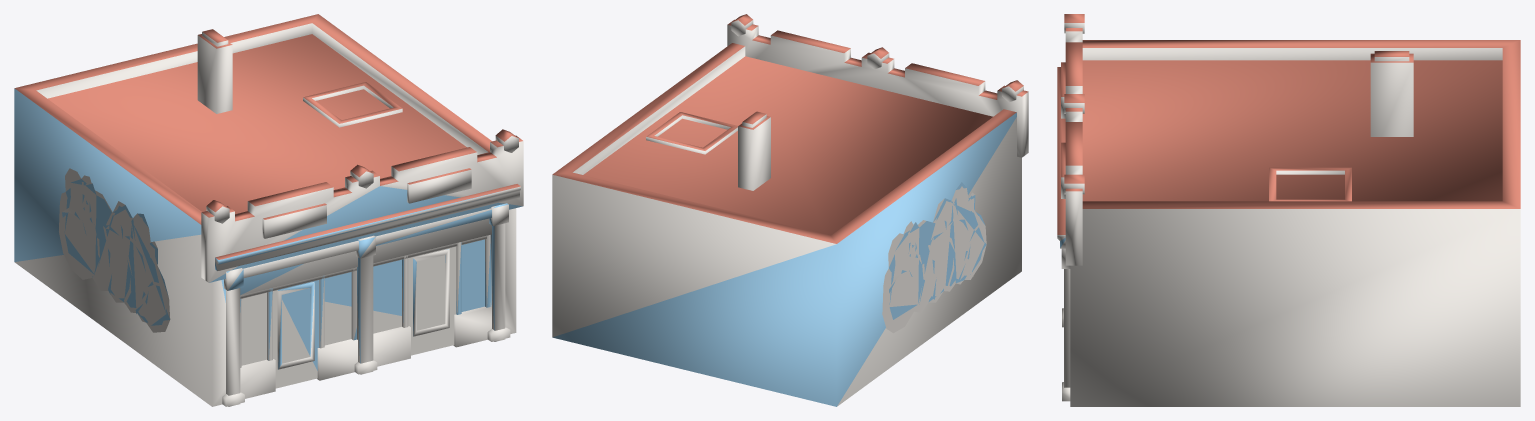
Rendered from building_villa.glb.
3 views of the same model, side by side, from view 1: azimuth 30°, elevation 25°; view 2: azimuth 150°, elevation 25°; view 3: azimuth 270°, elevation 25° (orthographic). The views are drawn at different scales.
Bounding box in the file's own units: 7.55 × 5.35 × 8.45.
